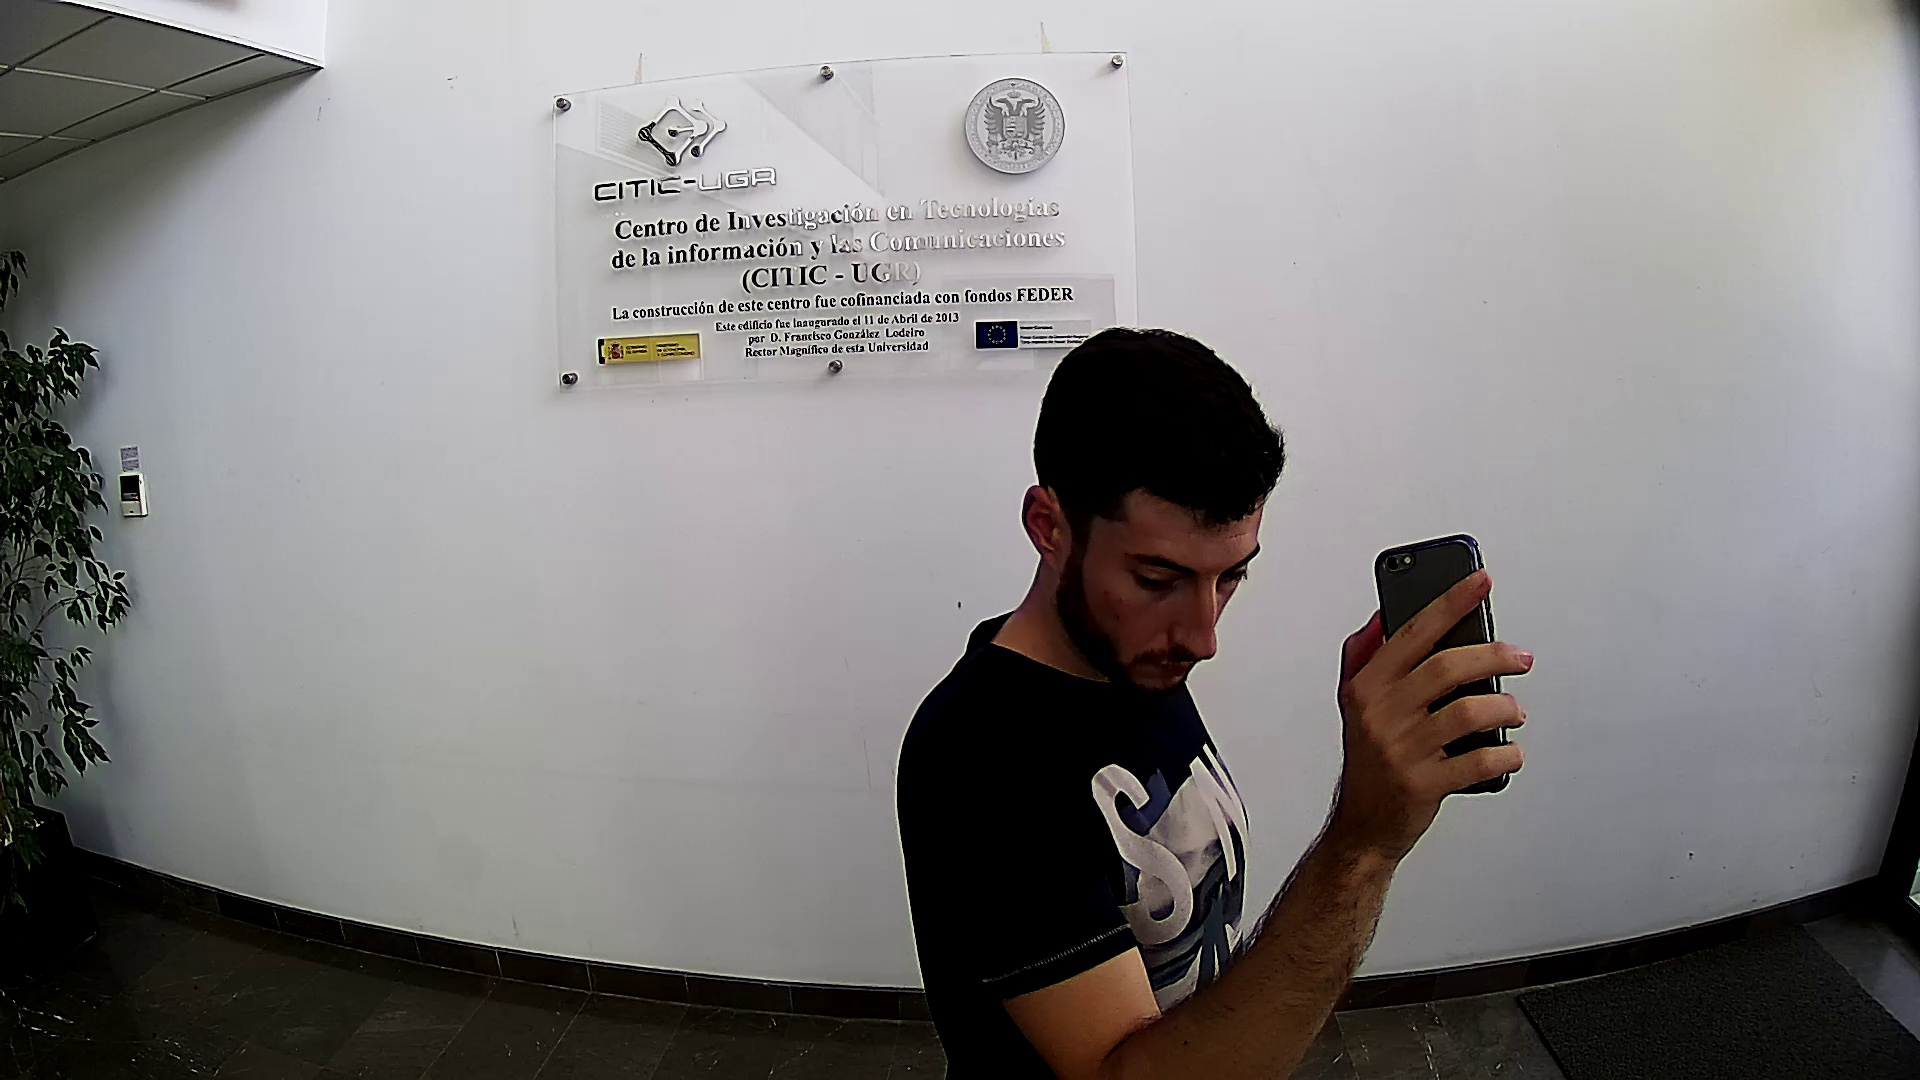smartphone: (1373, 531, 1513, 796)
